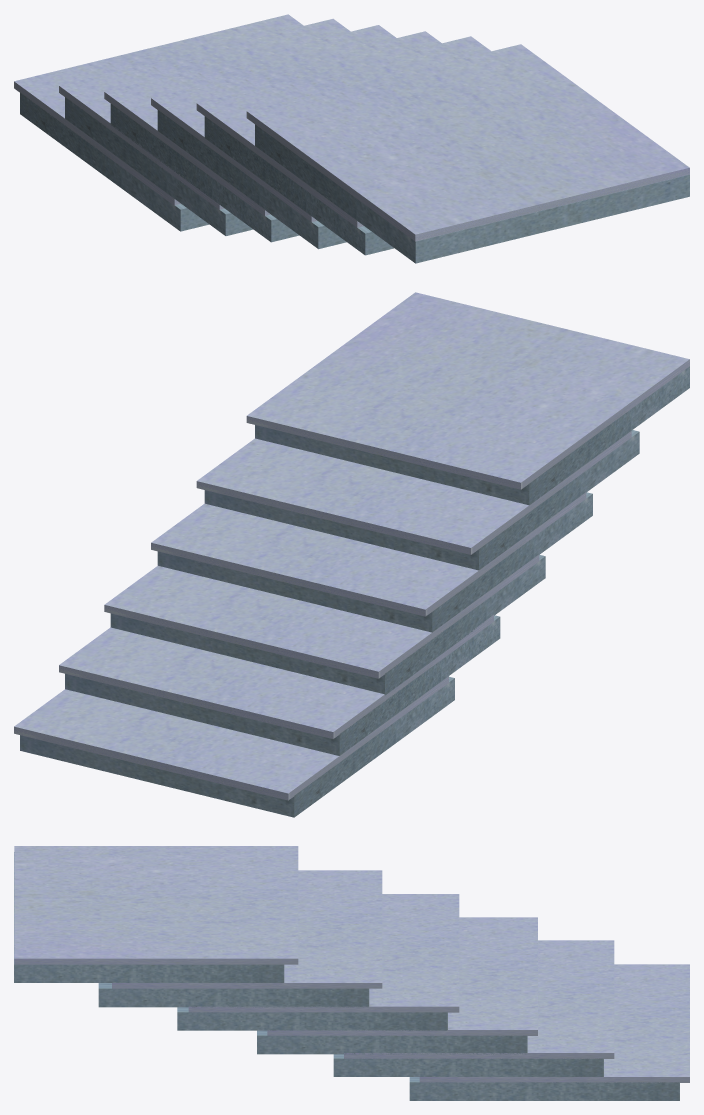
The model's file is Stairs.fbx.
3 views of the same model, one above another, from view 1: azimuth 30°, elevation 25°; view 2: azimuth 150°, elevation 25°; view 3: azimuth 270°, elevation 25° (orthographic). The views are drawn at different scales.
Parts seen in each view (by area): view 1: Stairs_mesh; view 2: Stairs_mesh; view 3: Stairs_mesh.
Boxes of the visible parts, x1,y1,x2,y2 form: Stairs_mesh: (14, 14, 689, 263); Stairs_mesh: (14, 292, 689, 817); Stairs_mesh: (14, 846, 689, 1100).
Bounding box in the file's own units: 0.9865 × 0.5803 × 2.5.
Materials: 1 (1 with a texture image).
